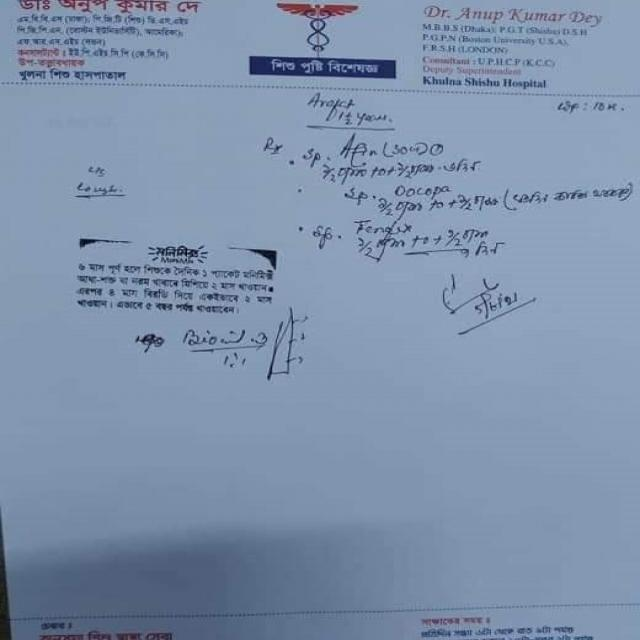Atin: (333, 134, 385, 162)
Docopa: (390, 181, 456, 201)
Fendex: (350, 217, 417, 237)
